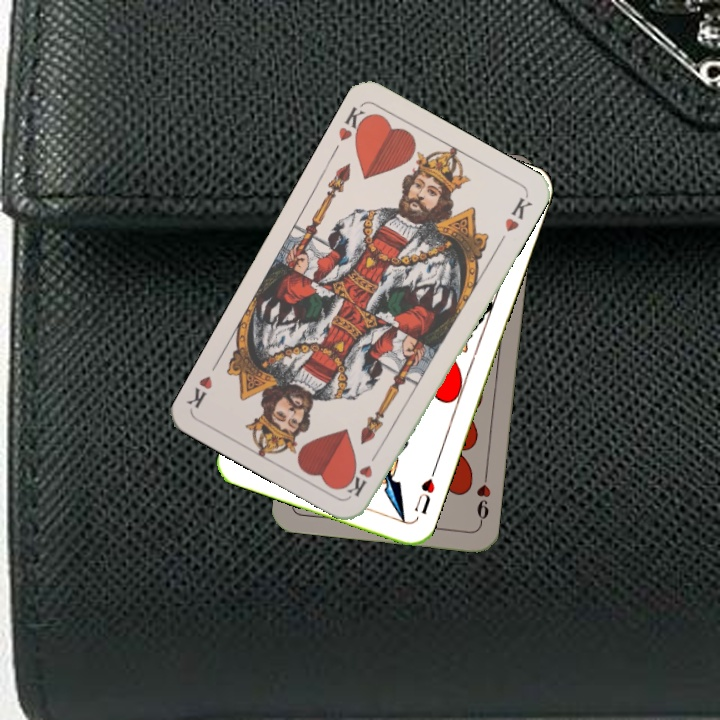H9: (472, 468, 493, 527)
HK: (345, 444, 384, 500), (334, 101, 374, 148)
HU: (410, 474, 438, 517)
